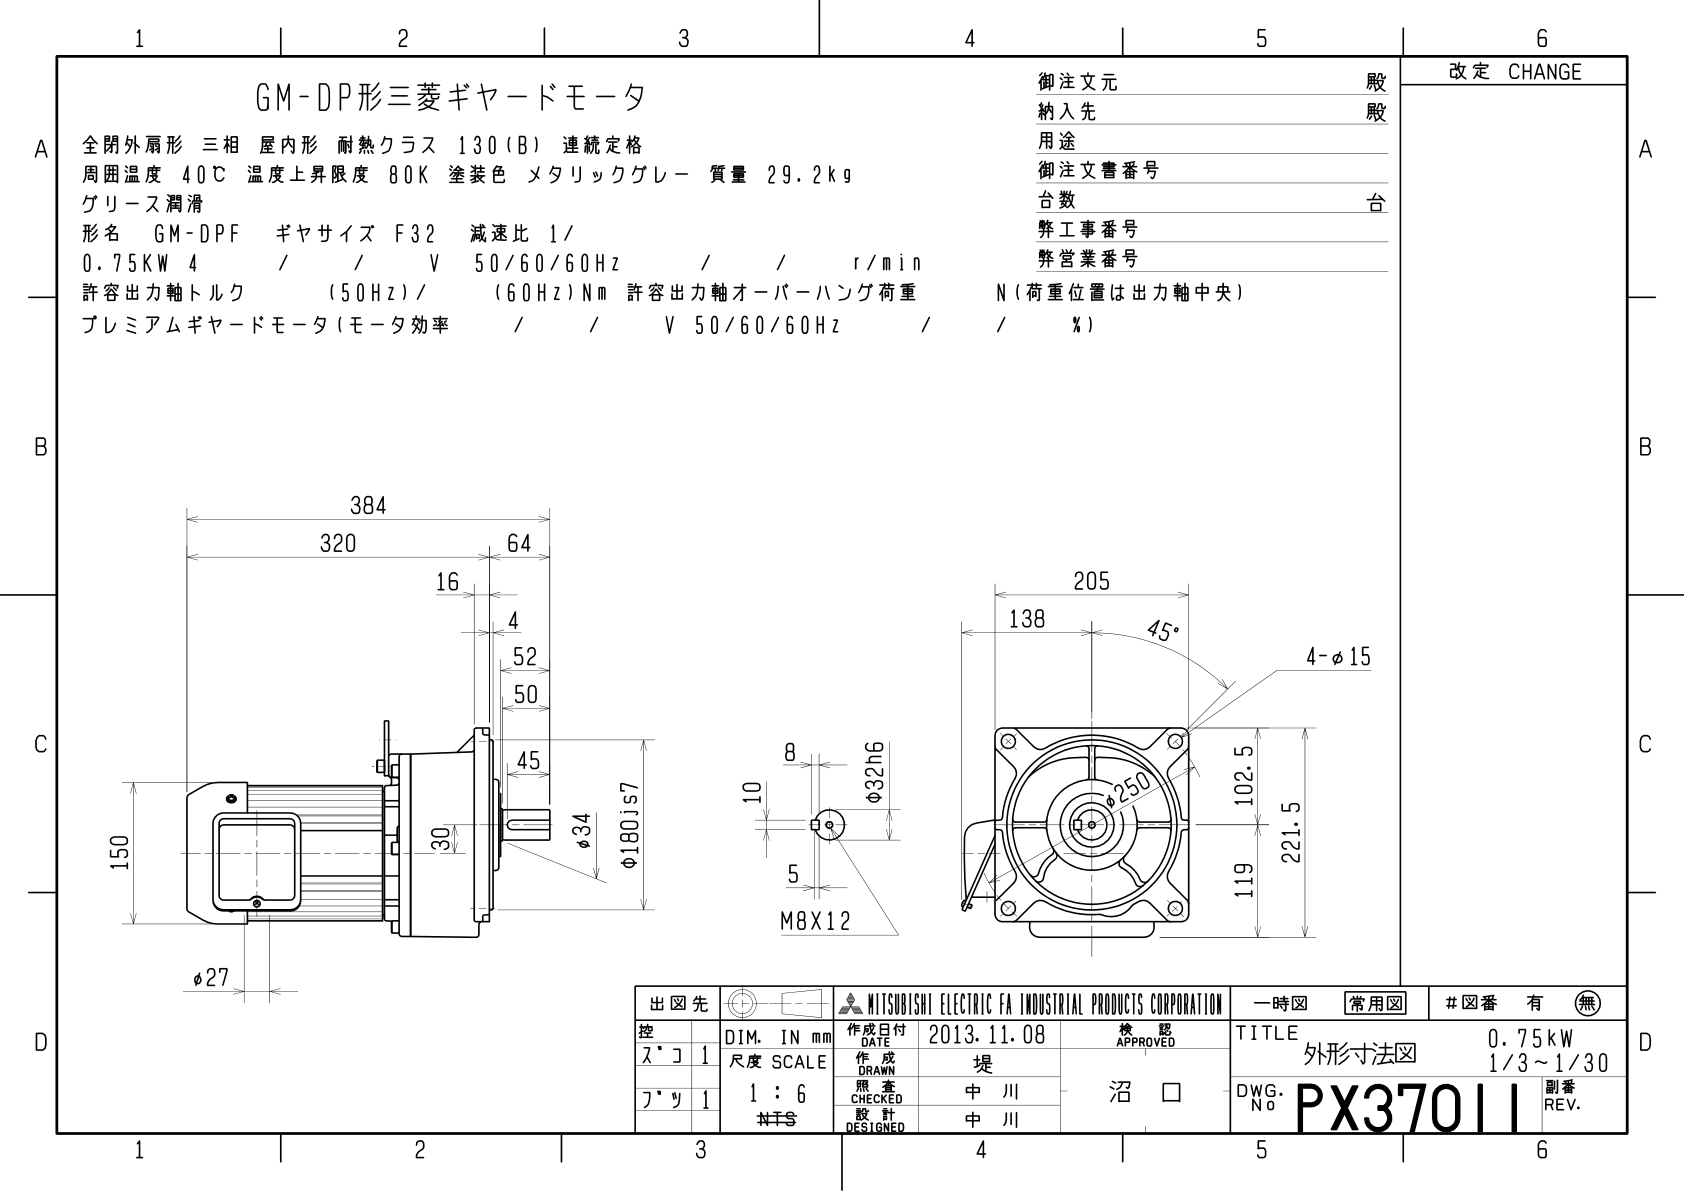GM_DP_屋内_三相_フランジ: (71, 412, 1401, 986)
